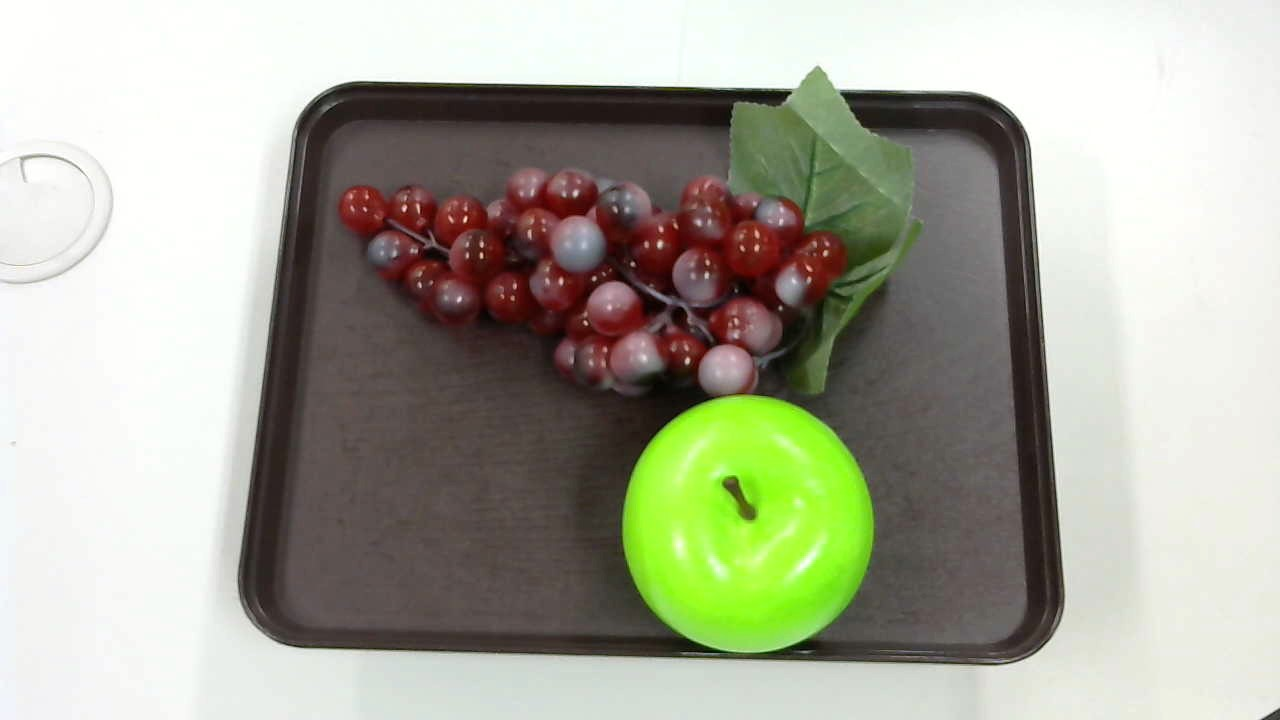grape: (339, 68, 927, 405)
green apple: (618, 396, 873, 656)
